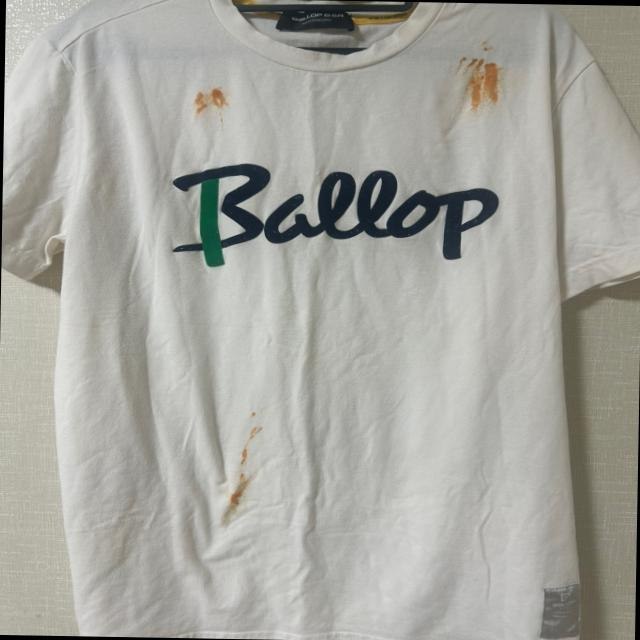stain: (232, 410, 264, 512), (450, 54, 510, 108), (188, 83, 232, 117), (481, 36, 498, 54)
